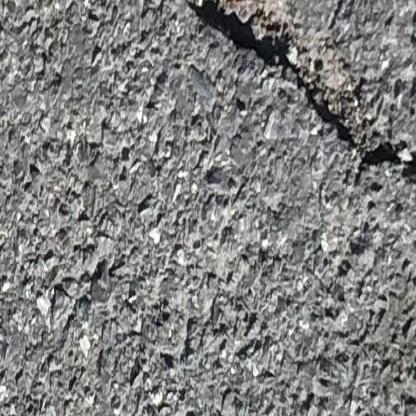Cracks: (161, 0, 416, 189)
